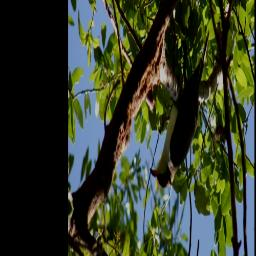Cuckoo: (149, 29, 209, 188)
